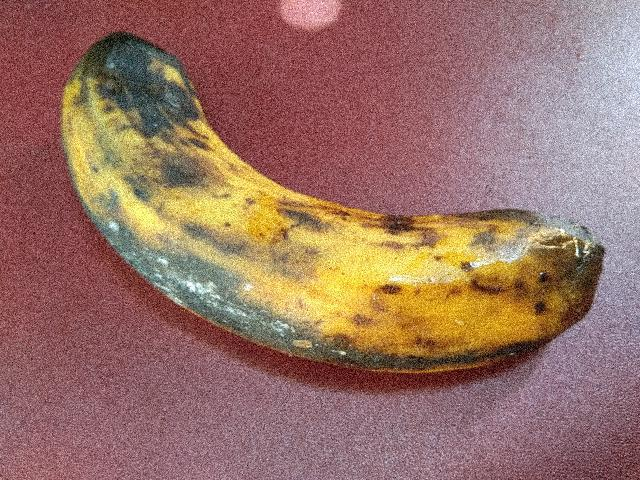rotten: (49, 31, 634, 376)
